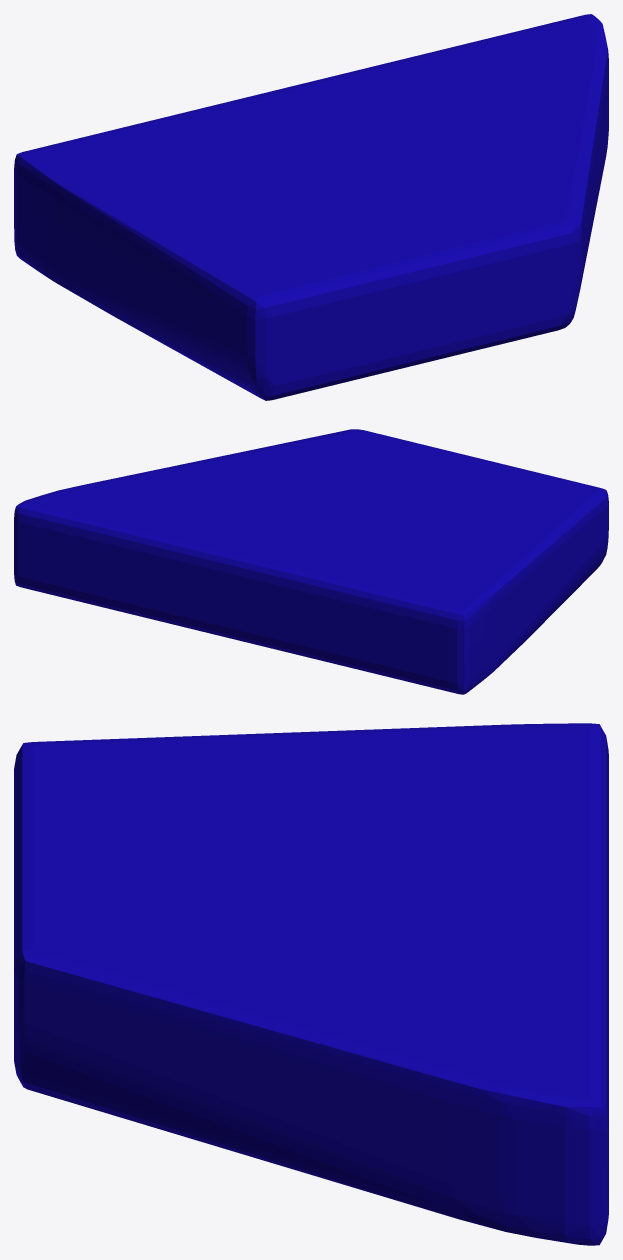
File: left_shoulder_yaw_link_part_5.obj
The picture shows the model from 3 angles, top to bottom: view 1: azimuth 30°, elevation 25°; view 2: azimuth 150°, elevation 25°; view 3: azimuth 270°, elevation 25°; orthographic projection. The views are drawn at different scales.
Size of the model in its own units: 0.0976 by 0.0168 by 0.0633.
